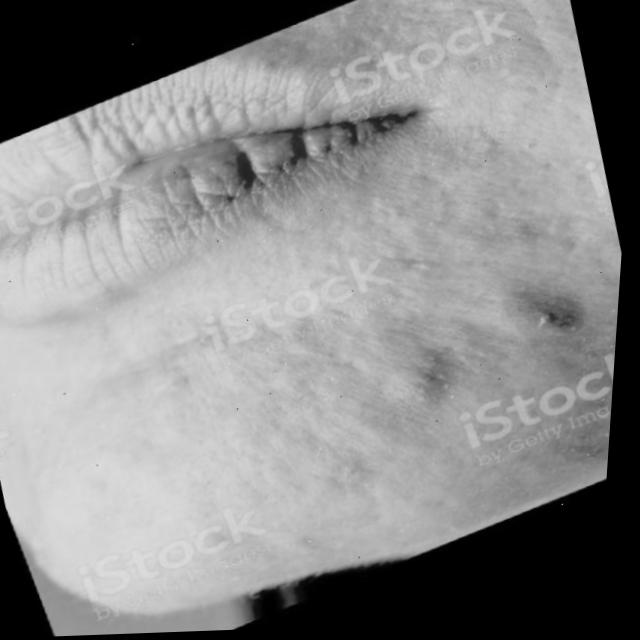Acne: (300, 229, 623, 508)
